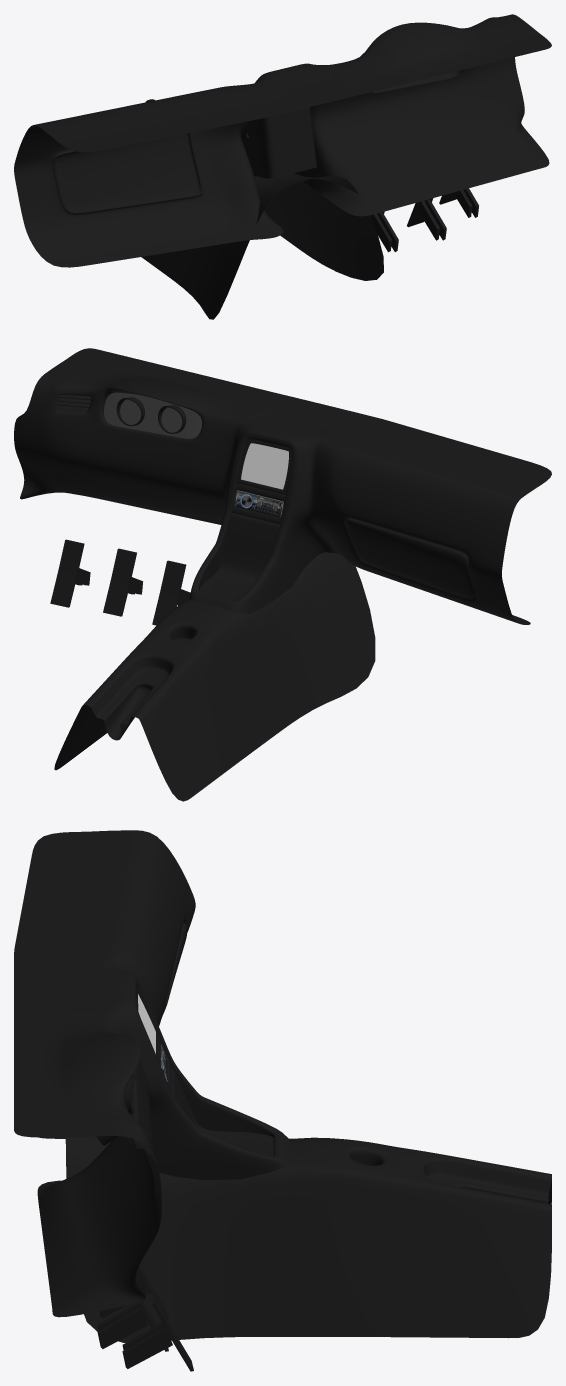
Rendered from wass 15.fbx.
3 views of the same model, one above another, from view 1: azimuth 30°, elevation 25°; view 2: azimuth 150°, elevation 25°; view 3: azimuth 270°, elevation 25° (orthographic). The views are drawn at different scales.
Visible parts, largest first — view 1: Plane.006, Plane.009; view 2: Plane.006, Plane.008, Plane.009, Plane.010, Plane.011; view 3: Plane.006, Plane.009, Plane.008.
Part boxes in pixels (x1,y1,x2,y2): Plane.006: [14, 14, 551, 319]; Plane.009: [370, 188, 478, 252]; Plane.006: [14, 348, 551, 801]; Plane.008: [199, 439, 291, 599]; Plane.009: [50, 539, 190, 625]; Plane.010: [241, 443, 288, 489]; Plane.011: [234, 490, 283, 517]; Plane.006: [14, 830, 551, 1342]; Plane.009: [97, 1264, 193, 1371]; Plane.008: [136, 986, 273, 1155].
Size of the model in its own units: 178 by 85.95 by 128.
4 materials, 1 textured.
